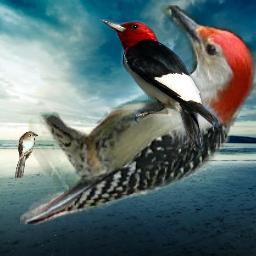Cuckoo: (15, 131, 38, 178)
Woodpecker: (20, 5, 256, 225), (98, 19, 222, 155)
